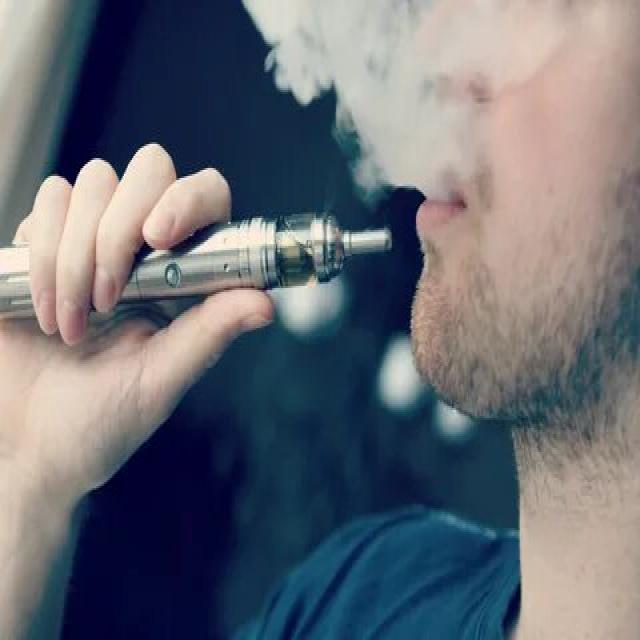cigarette: (0, 200, 409, 354)
